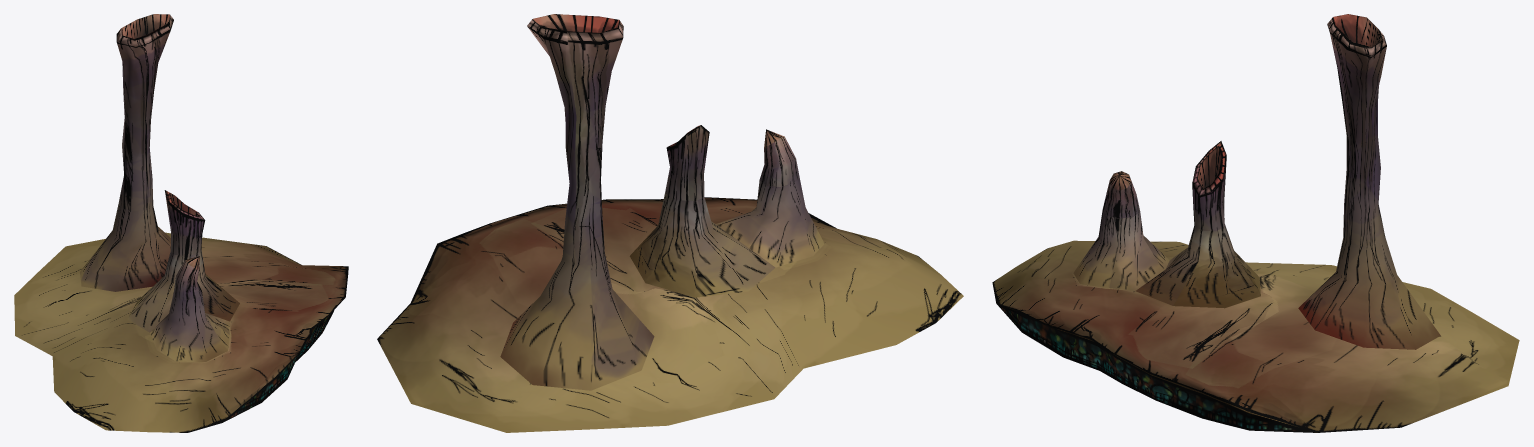
The model's file is smokestack_03.fbx.
3 renders of one model, left to right at view 1: azimuth 30°, elevation 25°; view 2: azimuth 150°, elevation 25°; view 3: azimuth 270°, elevation 25°, orthographic. The views are drawn at different scales.
Visible parts, largest first — view 1: SmokeStack_03; view 2: SmokeStack_03; view 3: SmokeStack_03.
Boxes of the visible parts, x1=… form: SmokeStack_03: x1=14, y1=14, x2=348, y2=432; SmokeStack_03: x1=377, y1=14, x2=963, y2=432; SmokeStack_03: x1=992, y1=14, x2=1519, y2=432.
Size of the model in its own units: 27.22 by 20.93 by 31.48.
